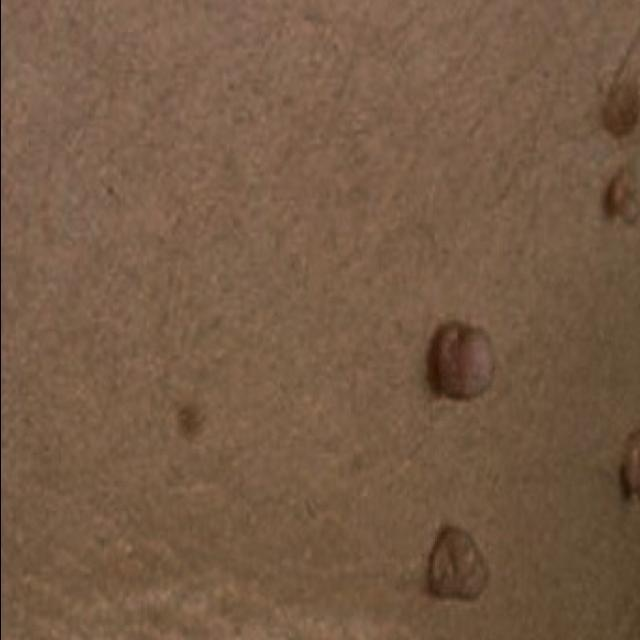wart: (408, 286, 516, 428), (409, 499, 502, 624), (590, 52, 640, 244), (616, 422, 640, 556)
